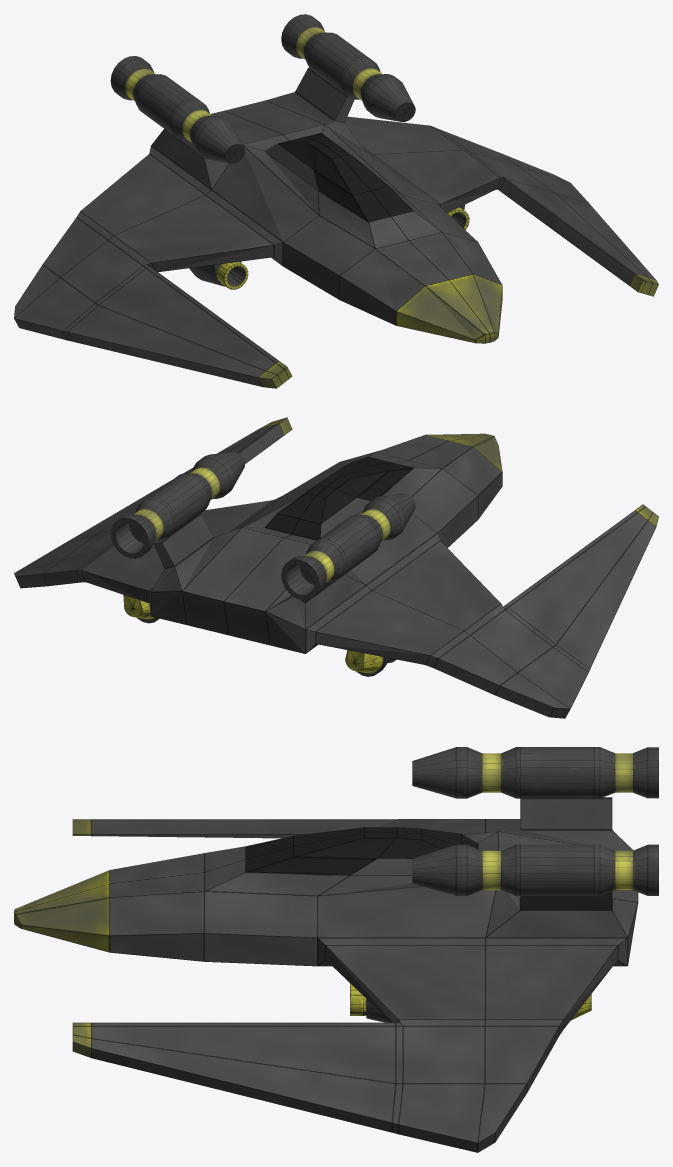
The model's file is PlayerShipAll.fbx.
3 views of the same model, one above another, from view 1: azimuth 30°, elevation 25°; view 2: azimuth 150°, elevation 25°; view 3: azimuth 270°, elevation 25° (orthographic). The views are drawn at different scales.
Parts seen in each view (by area): view 1: ShipBody, EngineRight, EngineLeft, RocketBay1; view 2: ShipBody, EngineRight, EngineLeft, RocketBay1, RocketBay; view 3: ShipBody, EngineRight, EngineLeft, RocketBay.
Part boxes in pixels (x1=…): ShipBody: x1=14, y1=67, x2=658, y2=388; EngineRight: x1=281, y1=14, x2=415, y2=121; EngineLeft: x1=110, y1=56, x2=245, y2=163; RocketBay1: x1=189, y1=261, x2=248, y2=289; ShipBody: x1=14, y1=417, x2=658, y2=718; EngineRight: x1=110, y1=452, x2=245, y2=558; EngineLeft: x1=281, y1=493, x2=415, y2=600; RocketBay1: x1=345, y1=650, x2=396, y2=676; RocketBay: x1=123, y1=595, x2=159, y2=623; ShipBody: x1=14, y1=797, x2=638, y2=1152; EngineRight: x1=412, y1=844, x2=658, y2=895; EngineLeft: x1=412, y1=747, x2=658, y2=798; RocketBay: x1=350, y1=983, x2=591, y2=1022.
Size of the model in its own units: 24.34 by 7.08 by 20.84.
